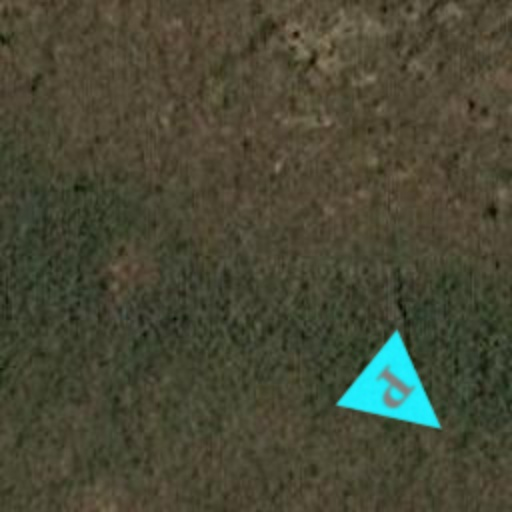triangle: (334, 328, 474, 468)
